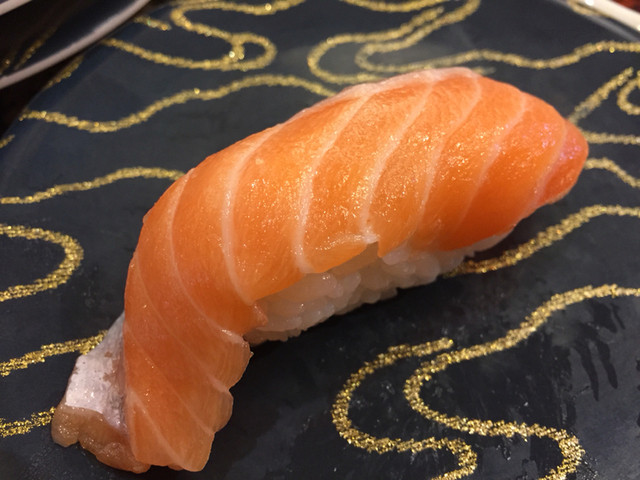salmon: (45, 65, 590, 474)
